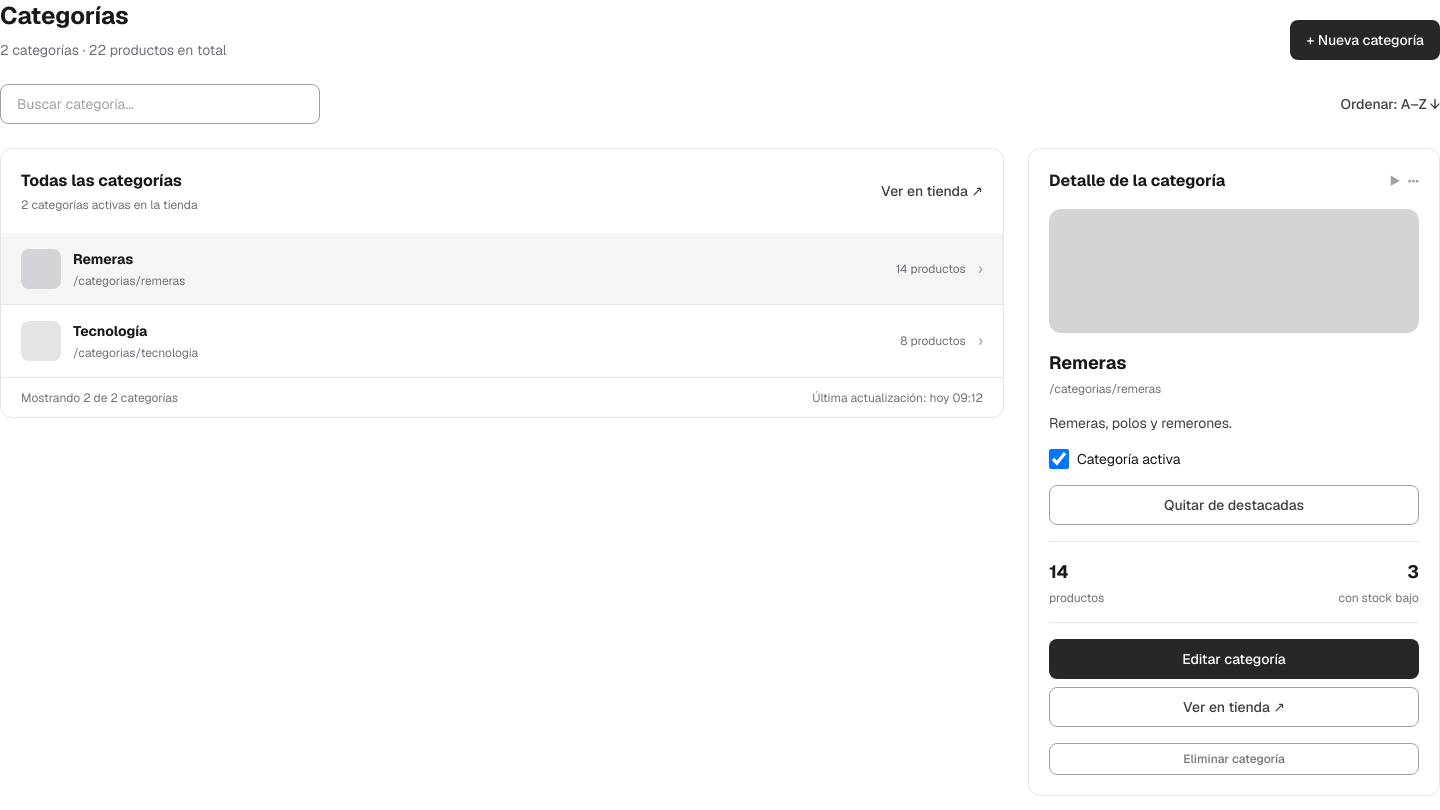
Test: AdminCategoriesWorkspace › keeps the dialog open and shows the 409 detail after a blocked delete
This screenshot has width=1440, height=810.
Click the button "Eliminar categoría". click: x=1234, y=759
box: [1049, 743, 1419, 775]
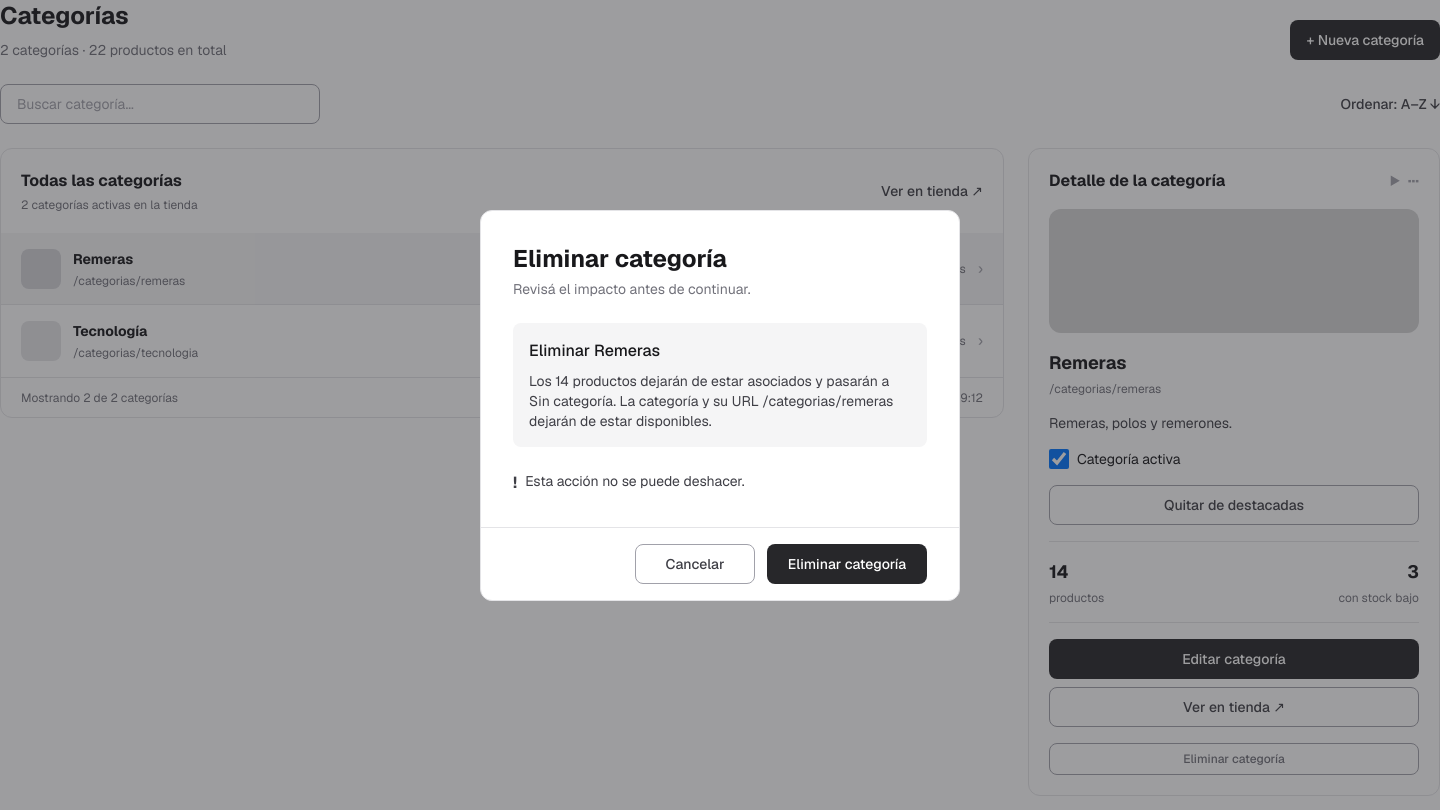
Click the button "Eliminar categoría". click: x=847, y=564
box: [767, 544, 927, 584]
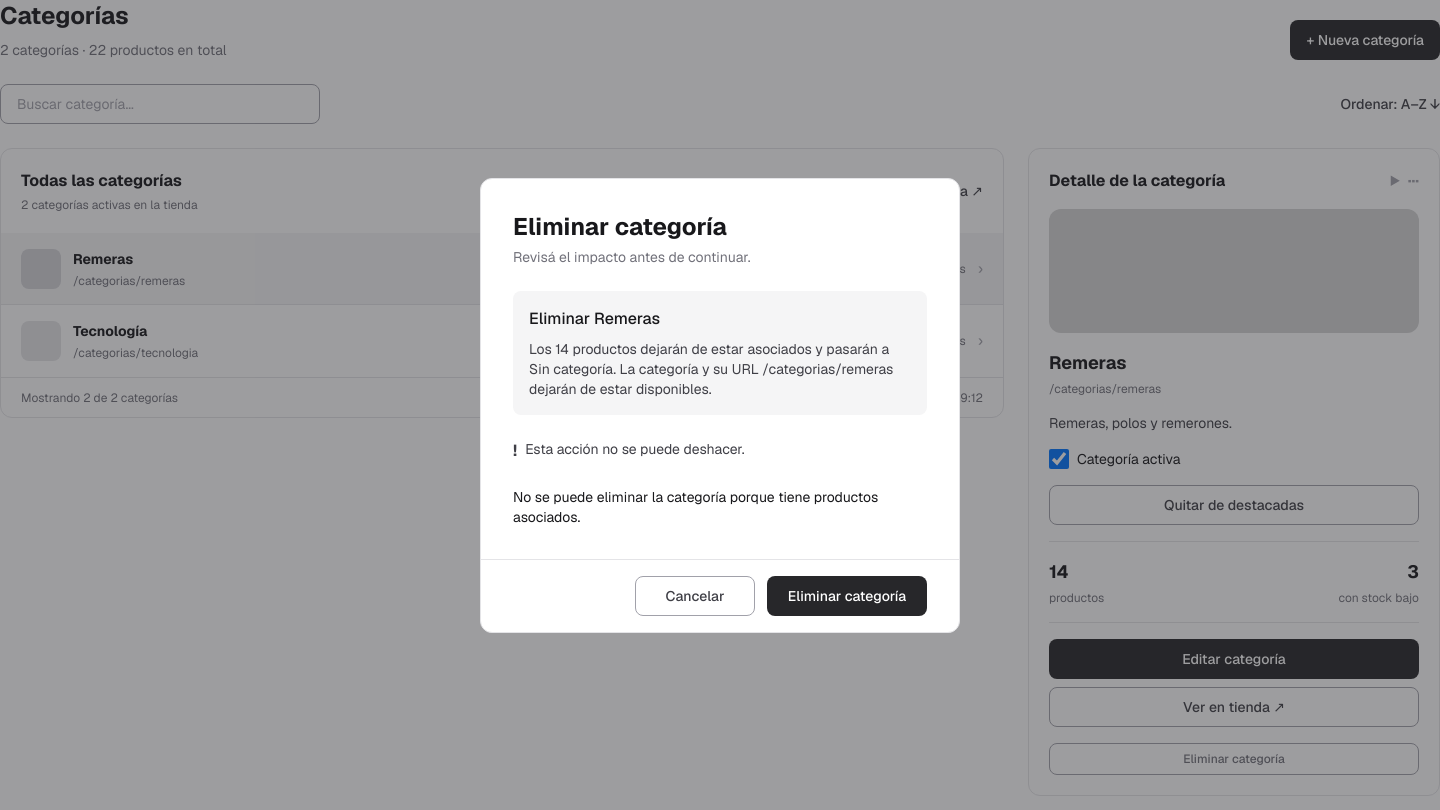
Check: the dialog is shown, box [480, 178, 960, 632]
Check: the message reads "No se puede eliminar la categoría porque tiene productos asociados.", box [513, 488, 878, 526]
